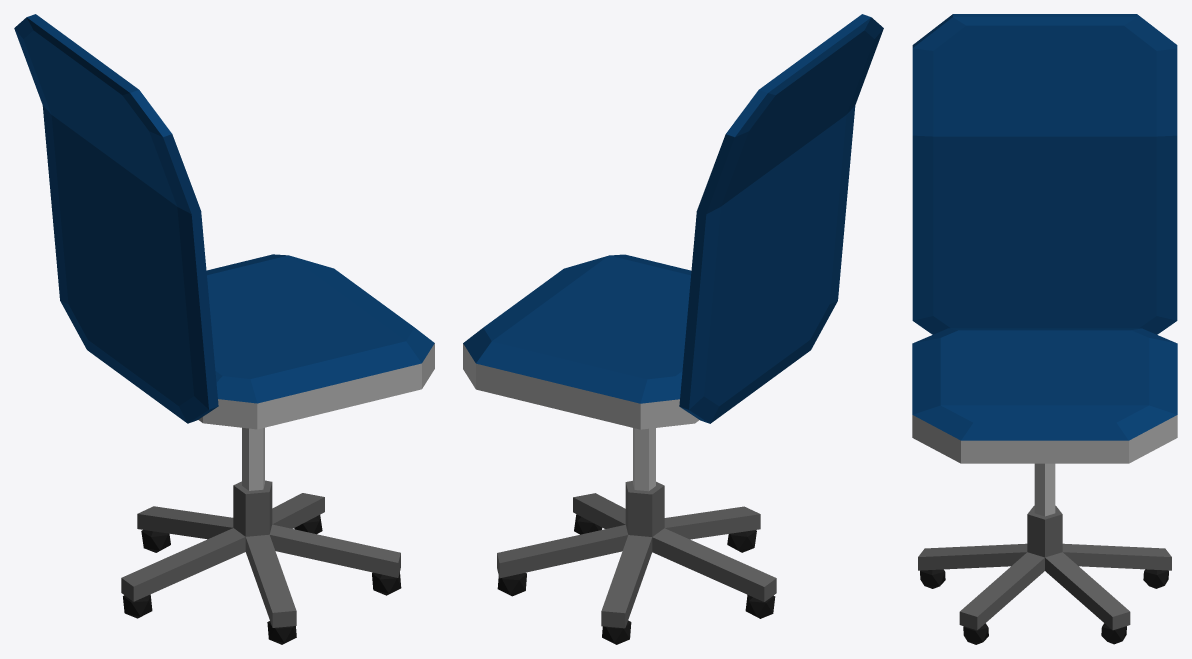
File: Chair.fbx
The picture shows the model from 3 angles, left to right: view 1: azimuth 30°, elevation 25°; view 2: azimuth 150°, elevation 25°; view 3: azimuth 270°, elevation 25°; orthographic projection. The views are drawn at different scales.
Visible parts, largest first — view 1: Back, Seat, BackTop, Stand5, Stand2, Stand1, Stand4, BottomOfStand, MIddleOfStand, Stand3; view 2: Back, Seat, BackTop, Stand5, Stand3, Stand4, Stand1, BottomOfStand, MIddleOfStand, Stand2; view 3: Back, Seat, BackTop, Stand2, Stand3, Stand1, Stand4, BottomOfStand, MIddleOfStand, Wheel1, Wheel4.
Boxes of the visible parts, x1=… form: Back: x1=42, y1=105, x2=218, y2=423; Seat: x1=198, y1=254, x2=434, y2=429; BackTop: x1=14, y1=14, x2=200, y2=214; Stand5: x1=121, y1=528, x2=245, y2=601; Stand2: x1=269, y1=524, x2=400, y2=577; Stand1: x1=245, y1=534, x2=296, y2=627; Stand4: x1=137, y1=506, x2=233, y2=539; BottomOfStand: x1=233, y1=480, x2=272, y2=536; MIddleOfStand: x1=242, y1=427, x2=264, y2=490; Stand3: x1=272, y1=493, x2=324, y2=528; Back: x1=679, y1=106, x2=855, y2=423; Seat: x1=463, y1=254, x2=699, y2=429; BackTop: x1=697, y1=14, x2=883, y2=214; Stand5: x1=652, y1=528, x2=776, y2=601; Stand3: x1=497, y1=525, x2=628, y2=578; Stand4: x1=601, y1=535, x2=652, y2=628; Stand1: x1=664, y1=506, x2=760, y2=539; BottomOfStand: x1=625, y1=480, x2=664, y2=536; MIddleOfStand: x1=633, y1=428, x2=655, y2=491; Stand2: x1=573, y1=493, x2=625, y2=528; Back: x1=912, y1=135, x2=1177, y2=334; Seat: x1=912, y1=328, x2=1177, y2=463; BackTop: x1=912, y1=14, x2=1177, y2=136; Stand2: x1=959, y1=552, x2=1044, y2=630; Stand3: x1=1045, y1=552, x2=1130, y2=630; Stand1: x1=918, y1=543, x2=1027, y2=570; Stand4: x1=1062, y1=543, x2=1171, y2=570; BottomOfStand: x1=1027, y1=505, x2=1062, y2=557; MIddleOfStand: x1=1034, y1=463, x2=1055, y2=516; Wheel1: x1=920, y1=569, x2=945, y2=588; Wheel4: x1=1143, y1=569, x2=1168, y2=588.
Size of the model in its own units: 85.7 by 153 by 71.4.
